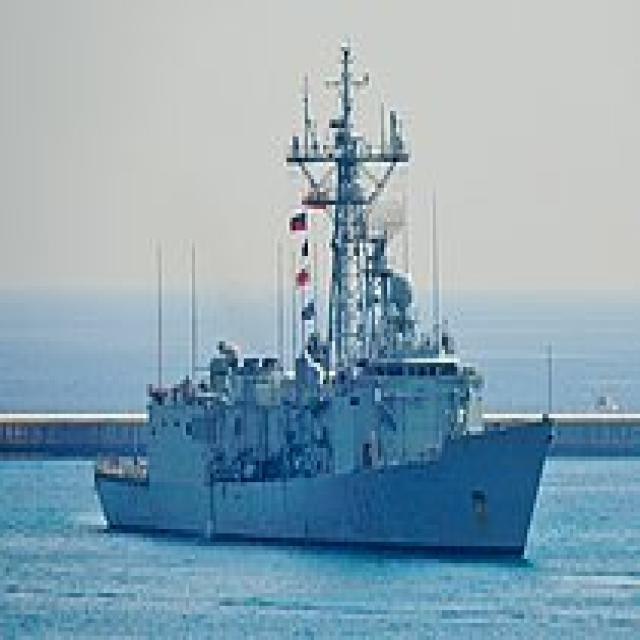Warship: (85, 34, 555, 559)
